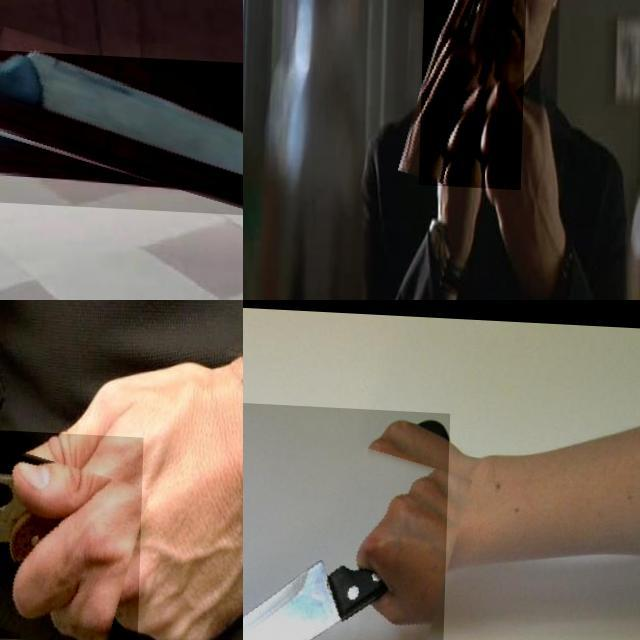-: (243, 393, 450, 640), (0, 47, 243, 216), (0, 421, 152, 640)
gun-knife-thesis - v11 Yolov5 augmented: (421, 0, 532, 185)
